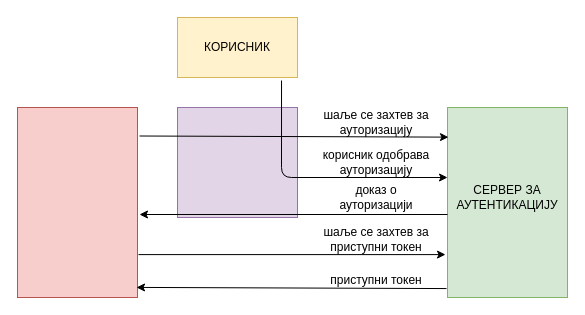
Image size: 585x315. Some labels were removed from this diagram. Each missing label, with the centre of its shape:
"АПЛИКАЦИЈА" goes at point 77,202.
"Веб прегледач" goes at point 237,162.
